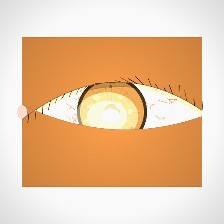corneal_ulcer: (74, 90, 140, 143)
